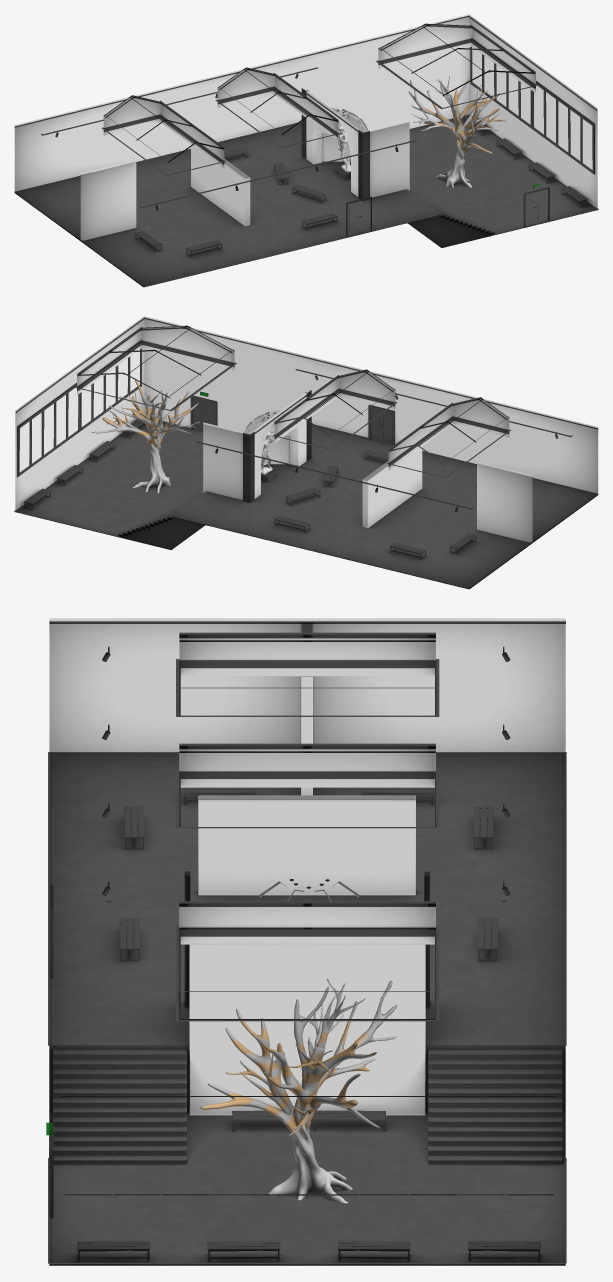
The model's file is gallery.opt.glb.
3 views of the same model, one above another, from view 1: azimuth 30°, elevation 25°; view 2: azimuth 150°, elevation 25°; view 3: azimuth 270°, elevation 25° (orthographic). The views are drawn at different scales.
Parts seen in each view (by area): view 1: walls_walls_0, floor_floor_0, ceiling_walls_0, Window_details_0, skyLight_details_0, corner_details_0, tree2_tree_0, chairs_details_0, Stairs_floor_0, Doors_details_0; view 2: walls_walls_0, floor_floor_0, ceiling_walls_0, Window_details_0, skyLight_details_0, corner_details_0, tree2_tree_0, chairs_details_0, Doors_details_0, Stairs_floor_0; view 3: floor_floor_0, walls_walls_0, Stairs_floor_0, ceiling_walls_0, skyLight_details_0, tree2_tree_0, chairs_details_0, corner_details_0, Window_details_0, Doors_details_0.
Boxes of the visible parts, x1,y1,x2,y2 form: walls_walls_0: (14,14,597,241); floor_floor_0: (15,117,598,287); ceiling_walls_0: (103,23,535,168); Window_details_0: (470,46,594,174); skyLight_details_0: (101,24,537,175); corner_details_0: (14,15,598,286); tree2_tree_0: (408,76,506,187); chairs_details_0: (135,115,588,257); Stairs_floor_0: (409,190,494,235); Doors_details_0: (346,187,549,237); walls_walls_0: (15,316,598,543); floor_floor_0: (14,422,597,589); ceiling_walls_0: (77,325,509,470); Window_details_0: (17,348,141,476); skyLight_details_0: (75,327,511,478); corner_details_0: (14,317,598,588); tree2_tree_0: (92,378,200,493); chairs_details_0: (24,419,476,559); Doors_details_0: (190,395,394,445); Stairs_floor_0: (118,492,203,536); floor_floor_0: (49,755,565,1265); walls_walls_0: (49,618,565,1115); Stairs_floor_0: (53,1049,562,1164); ceiling_walls_0: (179,638,435,944); skyLight_details_0: (176,632,439,1021); tree2_tree_0: (200,978,397,1203); chairs_details_0: (77,787,540,1261); corner_details_0: (48,621,566,1263); Window_details_0: (61,1096,556,1195); Doors_details_0: (49,884,53,1218).
Bounding box in the file's own units: 30.6 × 9.15 × 15.12.
5 materials, 5 textured.
